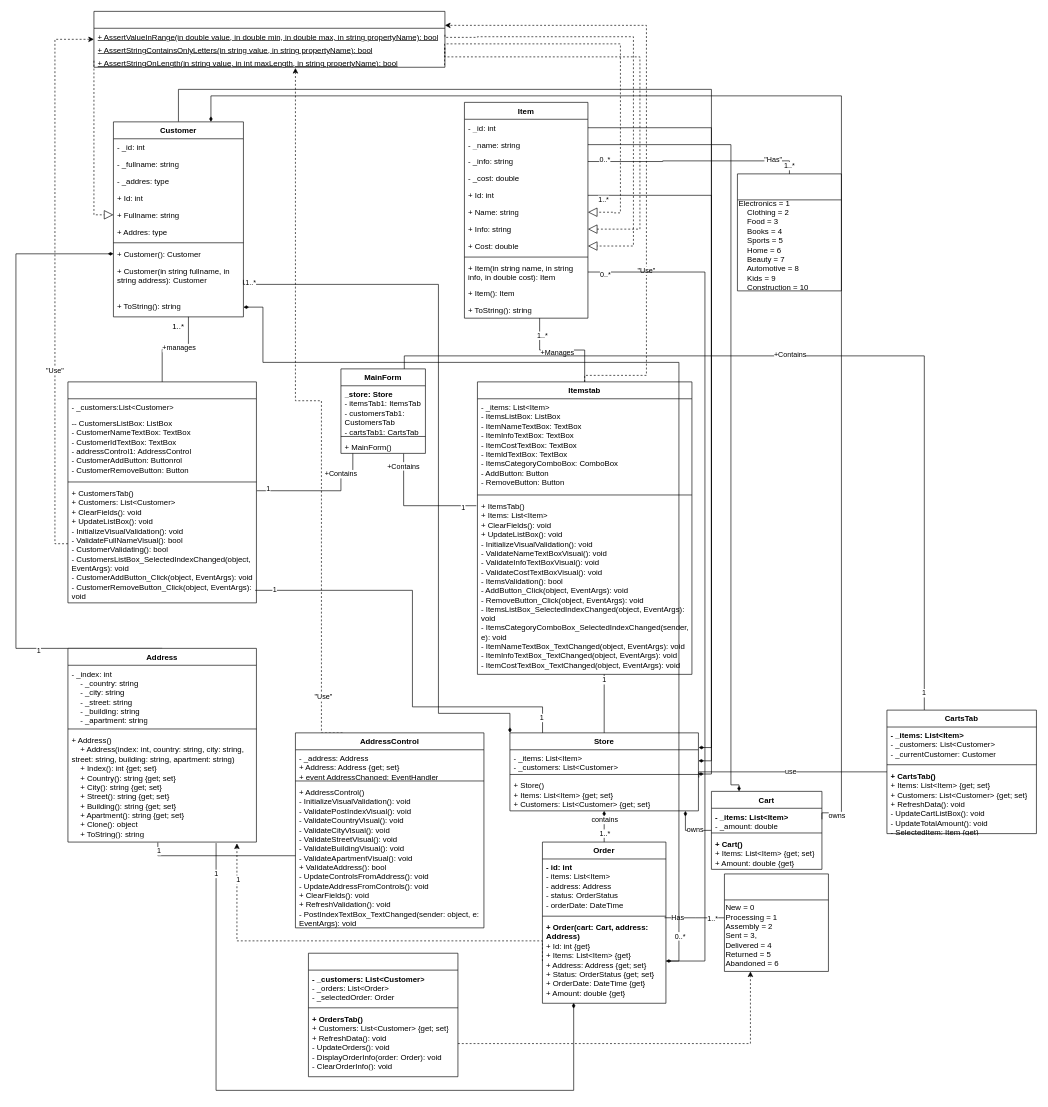
This 1048x1107 diagram has some shape labels left out. The shapes that lost their labels are listed below. From the top down, each one's box as (x1, y1, x2, y2) in pixels, then its label:
(93, 11, 445, 67): ValueValidator
(737, 173, 841, 291): Enummeration Category
(67, 381, 256, 603): Customertab
(724, 873, 828, 971): Enummeration OrderStatus
(308, 953, 458, 1077): OrderTab
